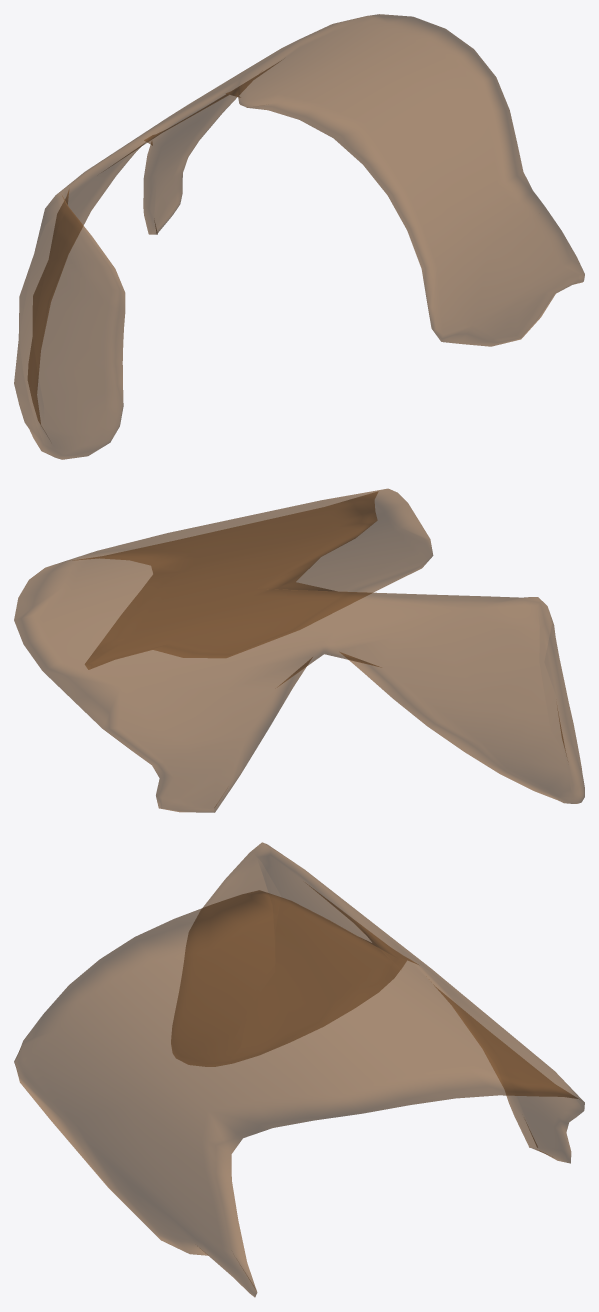
File: gamejam_glassshards_BottleBodyA.fbx
3 renders of one model, top to bottom at view 1: azimuth 30°, elevation 25°; view 2: azimuth 150°, elevation 25°; view 3: azimuth 270°, elevation 25°, orthographic. The views are drawn at different scales.
Parts seen in each view (by area): view 1: BottleBodyA; view 2: BottleBodyA; view 3: BottleBodyA.
Boxes of the visible parts, left/top/right/bottom form: BottleBodyA: left=14, top=14, right=584, bottom=459; BottleBodyA: left=14, top=488, right=584, bottom=812; BottleBodyA: left=14, top=842, right=584, bottom=1297.
Bounding box in the file's own units: 1926 × 931 × 1733.
